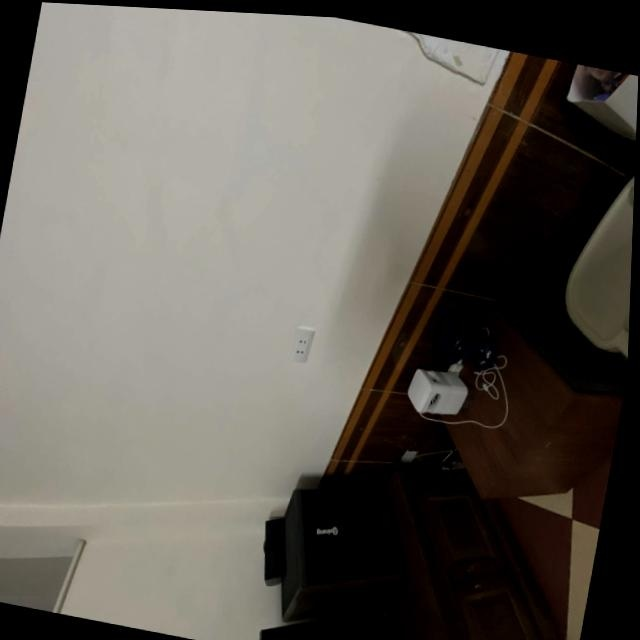outlet: (289, 326, 315, 365)
